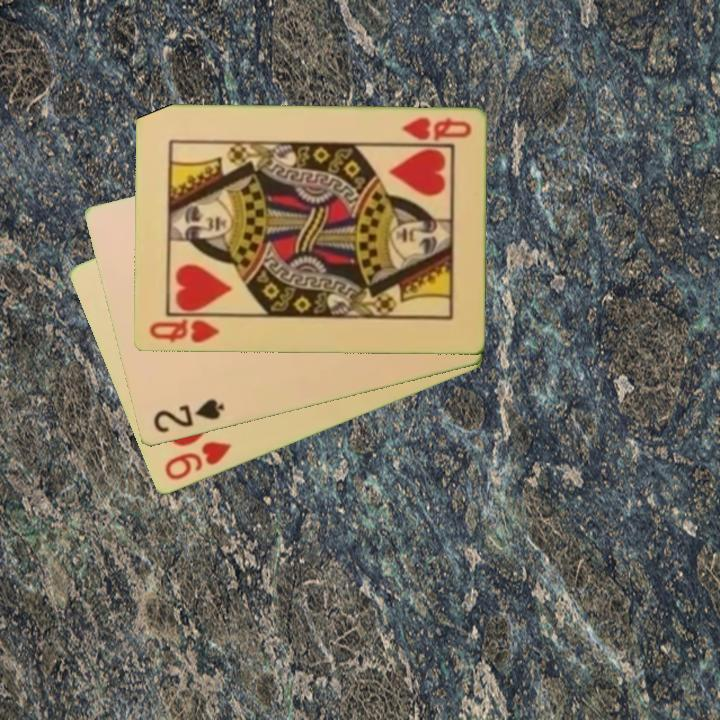2s: (149, 395, 227, 437)
9h: (160, 438, 234, 484)
Qh: (146, 313, 227, 347), (398, 114, 474, 144)
